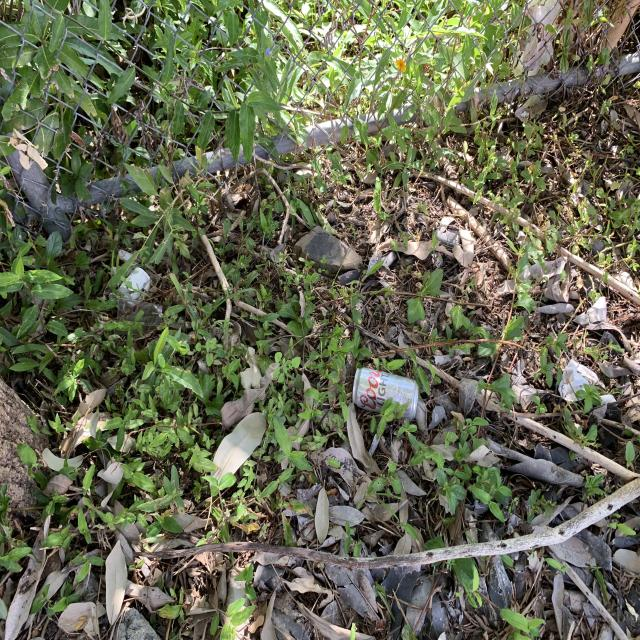litter: (432, 345, 622, 422), (345, 360, 425, 435)
